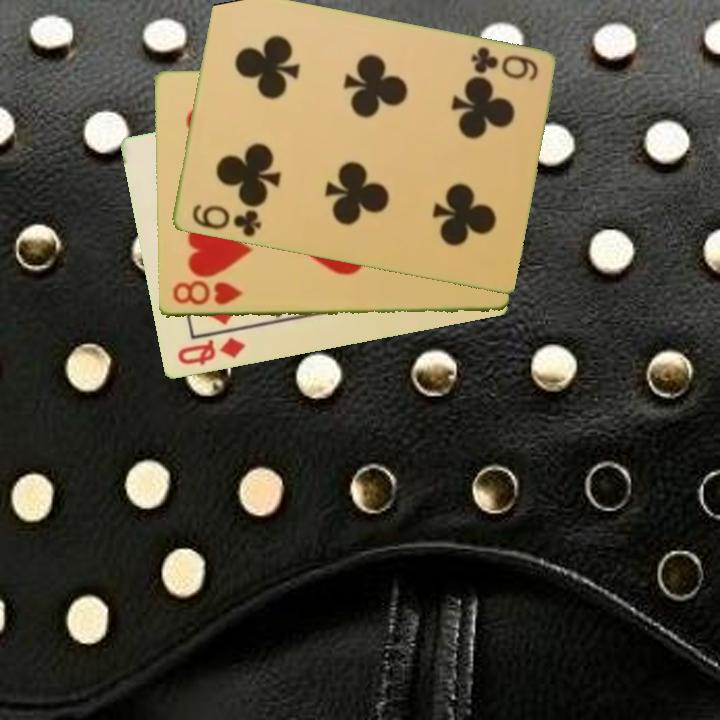6c: (188, 200, 264, 240), (467, 44, 541, 84)
8h: (168, 279, 245, 309)
Qd: (173, 334, 248, 369)
